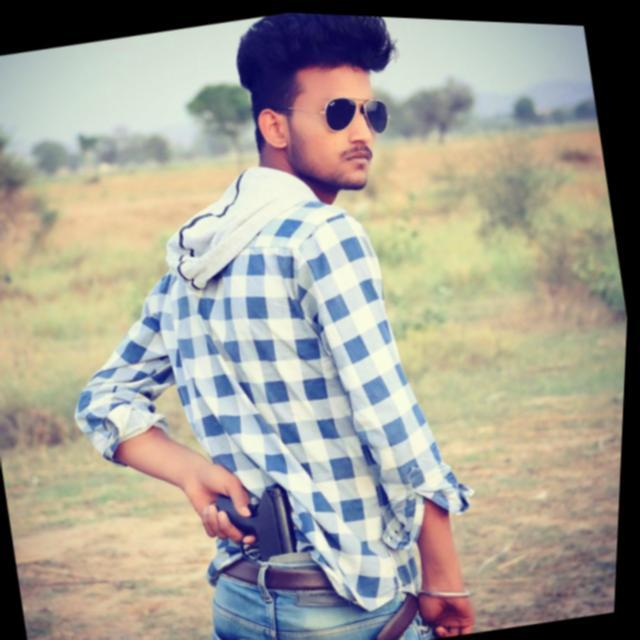weapon: (202, 465, 338, 640)
